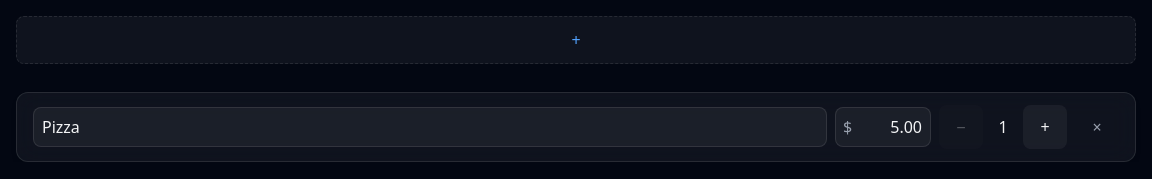
Scenario: ItemsPanel › reverts invalid price on blur
Replace the text in the 2nd field showing "5.00" with "abc" at (883, 127), box [835,107,931,147]
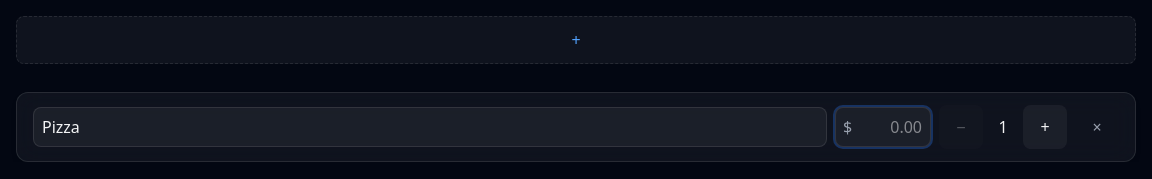
Press Tab
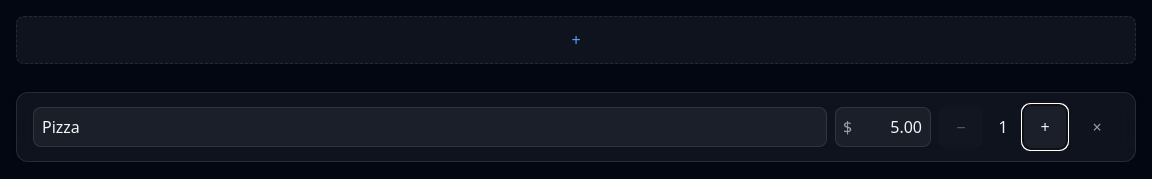
Expected: the 2nd field showing "5.00" is shown, [835,107,931,147]
